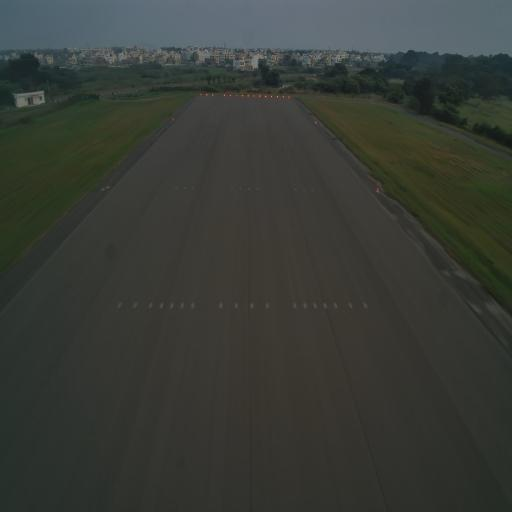off: (301, 300, 308, 312), (132, 300, 139, 310), (218, 301, 225, 311), (248, 300, 254, 311), (116, 299, 122, 309), (158, 300, 164, 310), (169, 301, 175, 311), (322, 301, 328, 311), (332, 299, 338, 309), (362, 301, 368, 311), (348, 300, 354, 309), (292, 300, 297, 310), (179, 302, 185, 310), (189, 302, 195, 310), (313, 301, 318, 310), (234, 300, 238, 311), (148, 301, 153, 309), (104, 185, 110, 191), (265, 301, 269, 310), (174, 184, 178, 191), (230, 186, 234, 192), (255, 186, 259, 192), (302, 187, 306, 193), (183, 185, 187, 190), (190, 186, 194, 191), (239, 186, 242, 192), (294, 187, 297, 193), (311, 186, 313, 194), (248, 186, 250, 192)
on: (376, 185, 380, 194)
